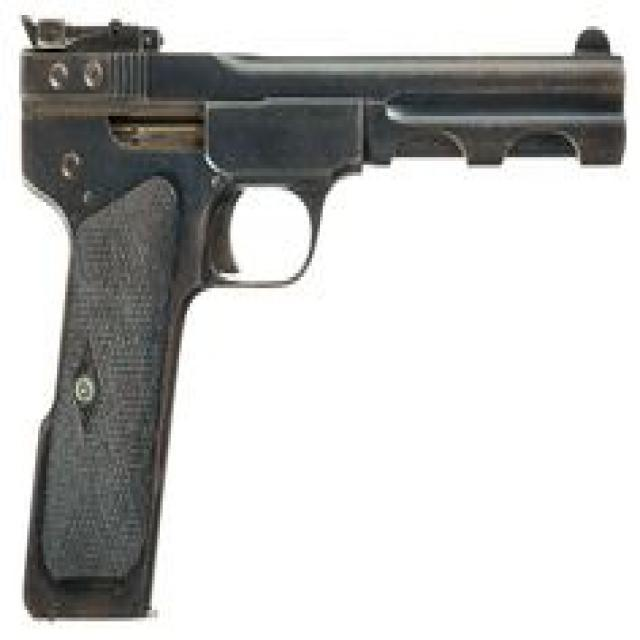semi automatic: (17, 5, 631, 628)
